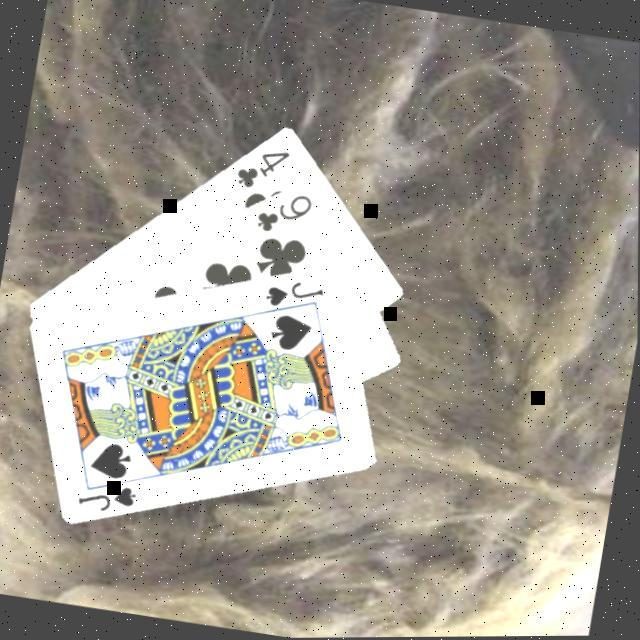4C: (231, 142, 294, 198)
9C: (252, 184, 318, 243)
JS: (261, 272, 330, 318), (73, 476, 142, 520)
